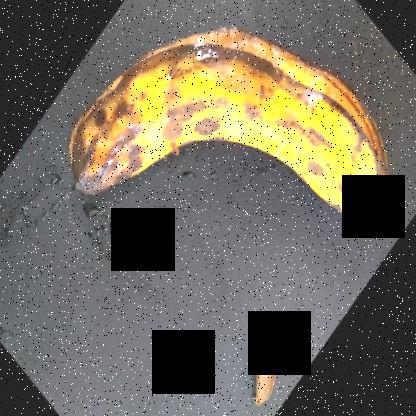rotten: (52, 1, 398, 252)
